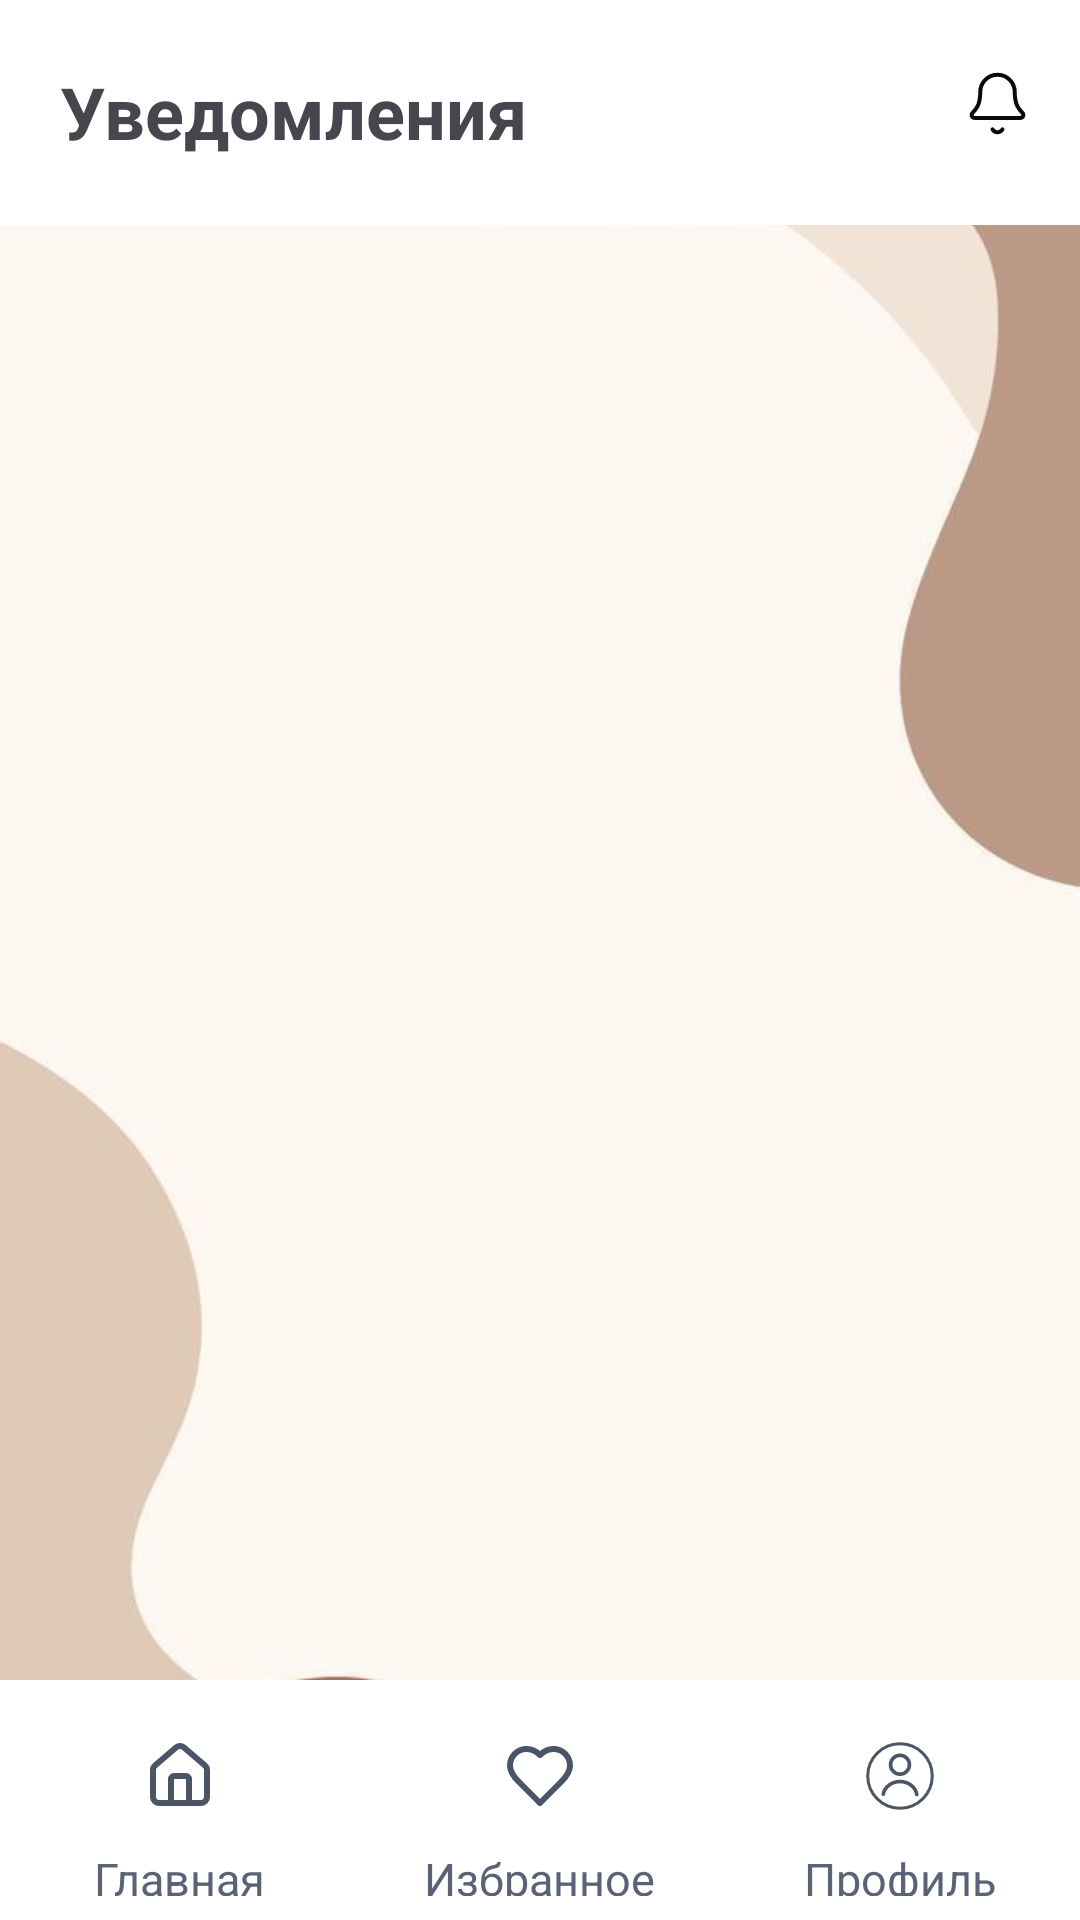

Icons on this 1080px×1920px Android screen, each with its box as (x1, y1, x2, y2):
favoritelt: (507, 1746, 573, 1806)
homelt: (150, 1743, 210, 1806)
notificationlt: (969, 72, 1026, 135)
profilelt: (866, 1742, 934, 1810)
